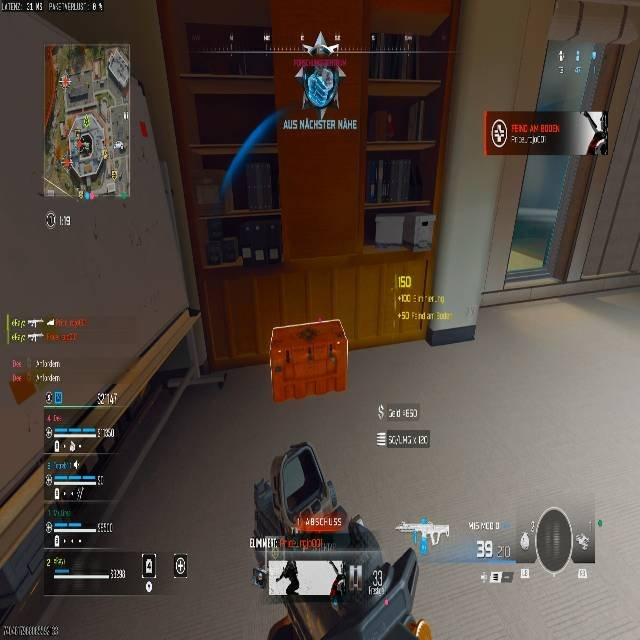player: (252, 437, 432, 640)
